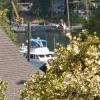Boat: (17, 34, 57, 69)
